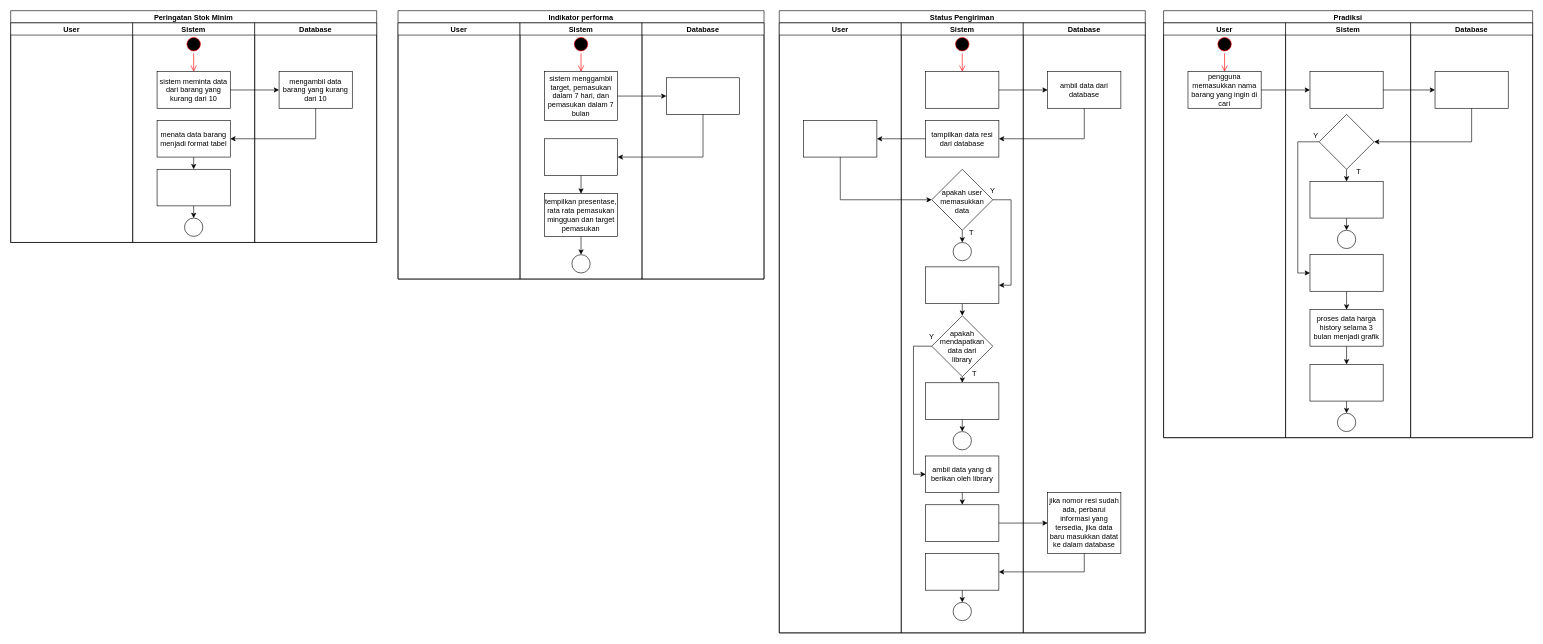
Some shapes in this 1543 by 644 pixel diagram are drawn without their labels. Each missing label, with the centre of its shape:
"apakah ada data barang" belongs at point (1346, 141).
"masukkan data ke dalam database" belongs at point (962, 522).
"meminta data barang keluar dan harga histroy pada database" belongs at point (1471, 89).
"meminta data dari library GTrack" belongs at point (962, 284).
"mengambil data dari database" belongs at point (703, 95).
"menghitung rata rata pemasukan dalam 7 hari & peresentase untuk target" belongs at point (581, 156).
"minta data barang pada database" belongs at point (1346, 89).
"pengguna memasukkan data nomer resi dan expedisi" belongs at point (840, 138).
"prosess data barang keluar 7 hari menjadi grafik" belongs at point (1346, 272).
"reload halaman" belongs at point (962, 400).
"sistem meminta data resi dari database" belongs at point (962, 89).
"tampilkan data resi" belongs at point (962, 571).
"tampilkan data yang telah di ambil" belongs at point (193, 187).
"tampilkan grafik" belongs at point (1346, 382).
"tampilkan grafik dengan nilai 0" belongs at point (1346, 199).
